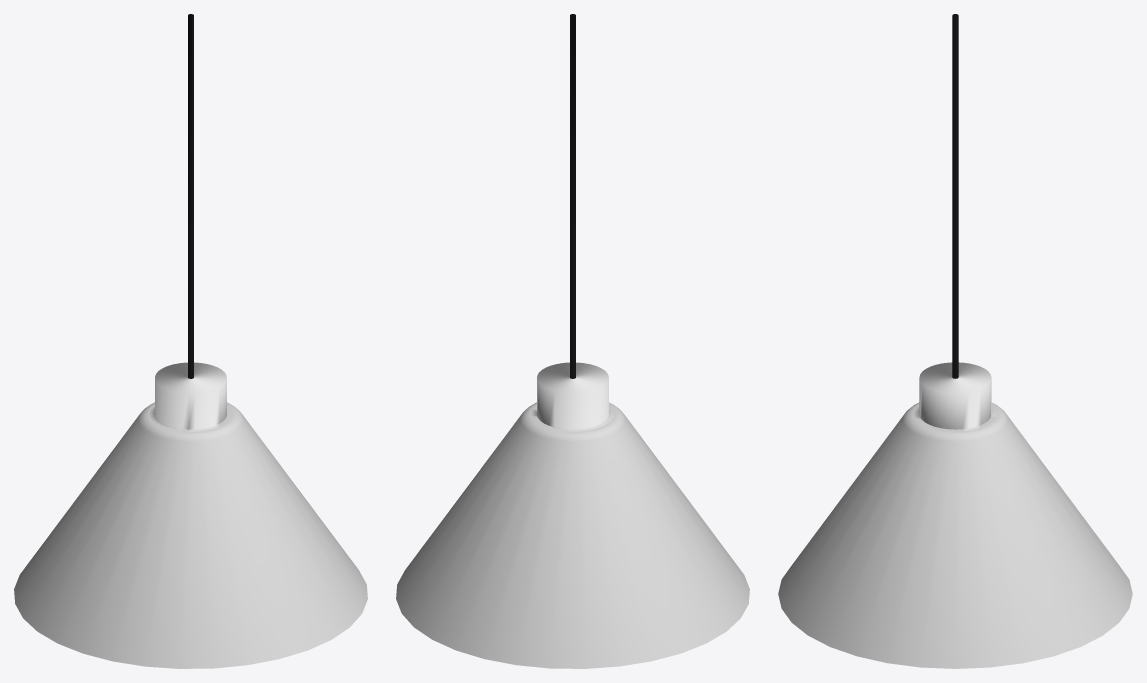
File: LAMPARITAPRO.fbx
3 views of the same model, side by side, from view 1: azimuth 30°, elevation 25°; view 2: azimuth 150°, elevation 25°; view 3: azimuth 270°, elevation 25° (orthographic).
Parts seen in each view (by area): view 1: Cylinder; view 2: Cylinder; view 3: Cylinder.
Part boxes in pixels (bbox=[...]): Cylinder: bbox=[14, 14, 367, 668]; Cylinder: bbox=[396, 14, 749, 668]; Cylinder: bbox=[778, 14, 1132, 668].
Size of the model in its own units: 117 by 211 by 117.
4 materials, 1 textured.
